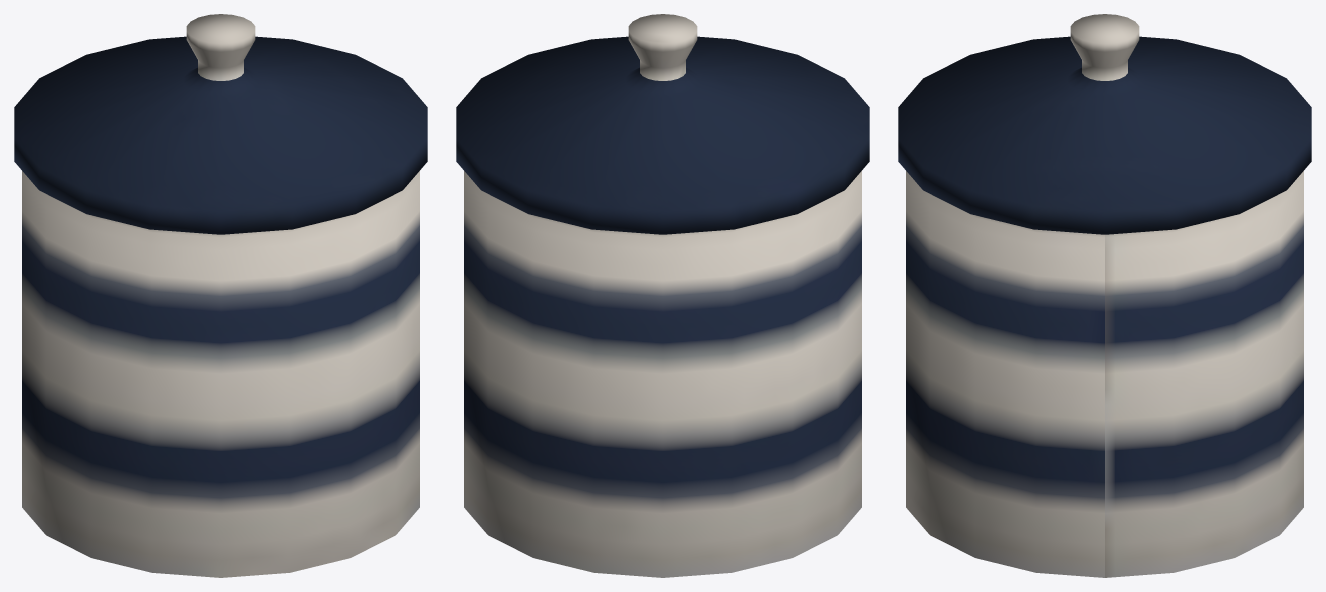
Rendered from KP_StorageCup_Large.FBX.
3 renders of one model, left to right at view 1: azimuth 30°, elevation 25°; view 2: azimuth 150°, elevation 25°; view 3: azimuth 270°, elevation 25°, orthographic.
Visible parts, largest first — view 1: KP_StorageCup_Large; view 2: KP_StorageCup_Large; view 3: KP_StorageCup_Large.
Part boxes in pixels (x1,y1,x2,y2): KP_StorageCup_Large: [14, 14, 427, 577]; KP_StorageCup_Large: [456, 14, 869, 577]; KP_StorageCup_Large: [898, 14, 1311, 577].
Size of the model in its own units: 17.34 by 21.13 by 17.07.
